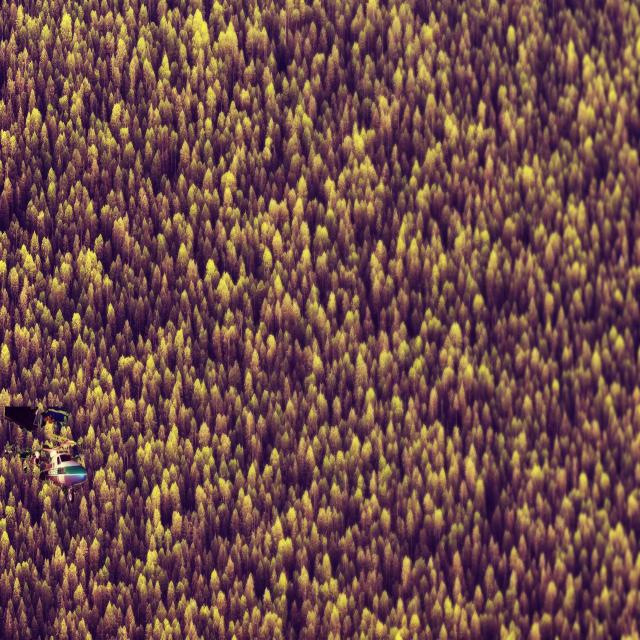airplane: (5, 404, 87, 504)
